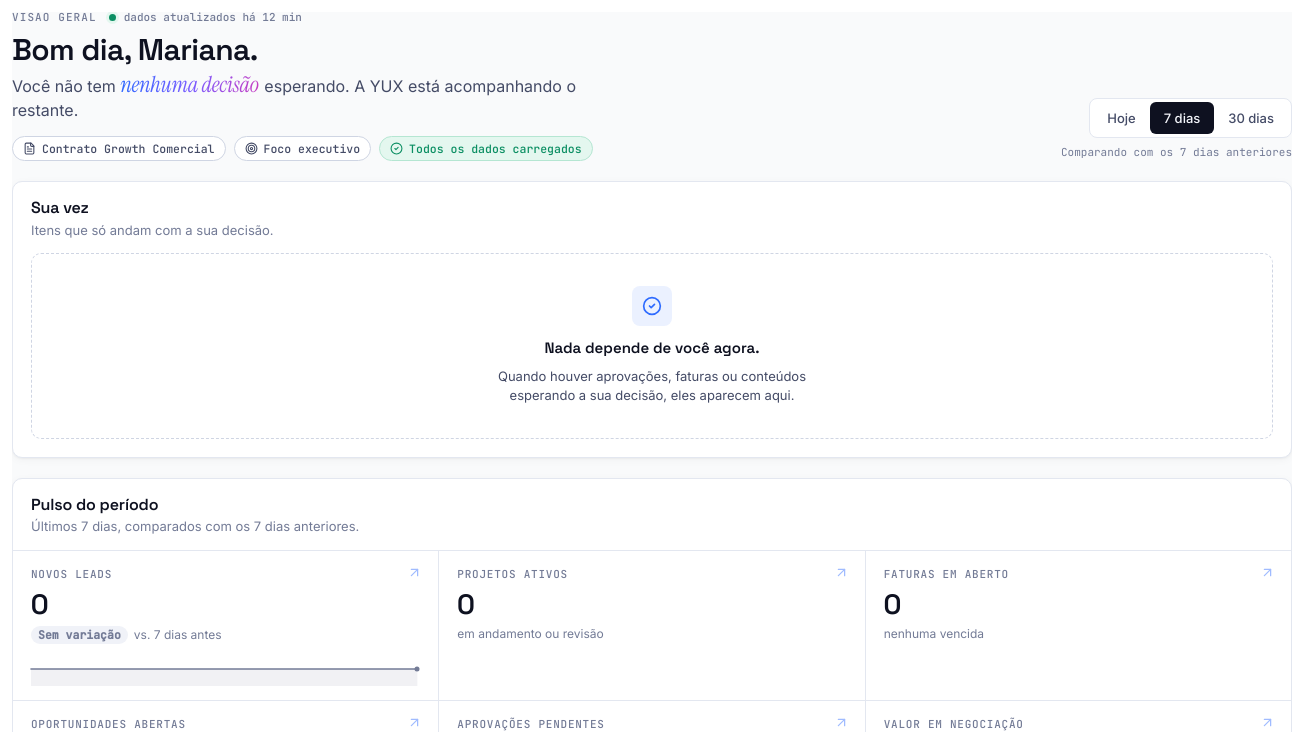
Scenario: PortalDashboardPage › troca o período e atualiza a legenda de comparação
Click the button "Hoje".
click(1122, 118)  # box [1093,102,1150,134]
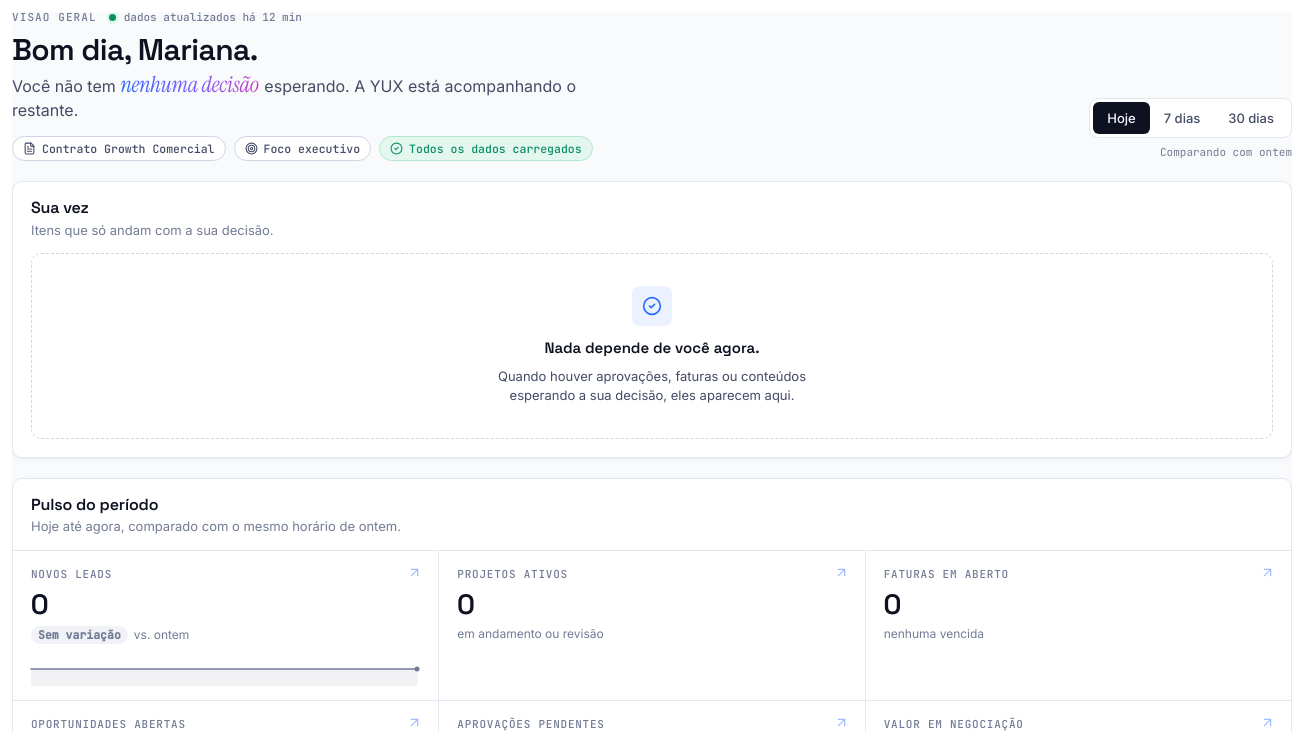
Expected: the text "Comparando com ontem" is shown, [1160,144,1292,161]
Click the button "30 dias".
click(1251, 118)  # box [1214,102,1288,134]
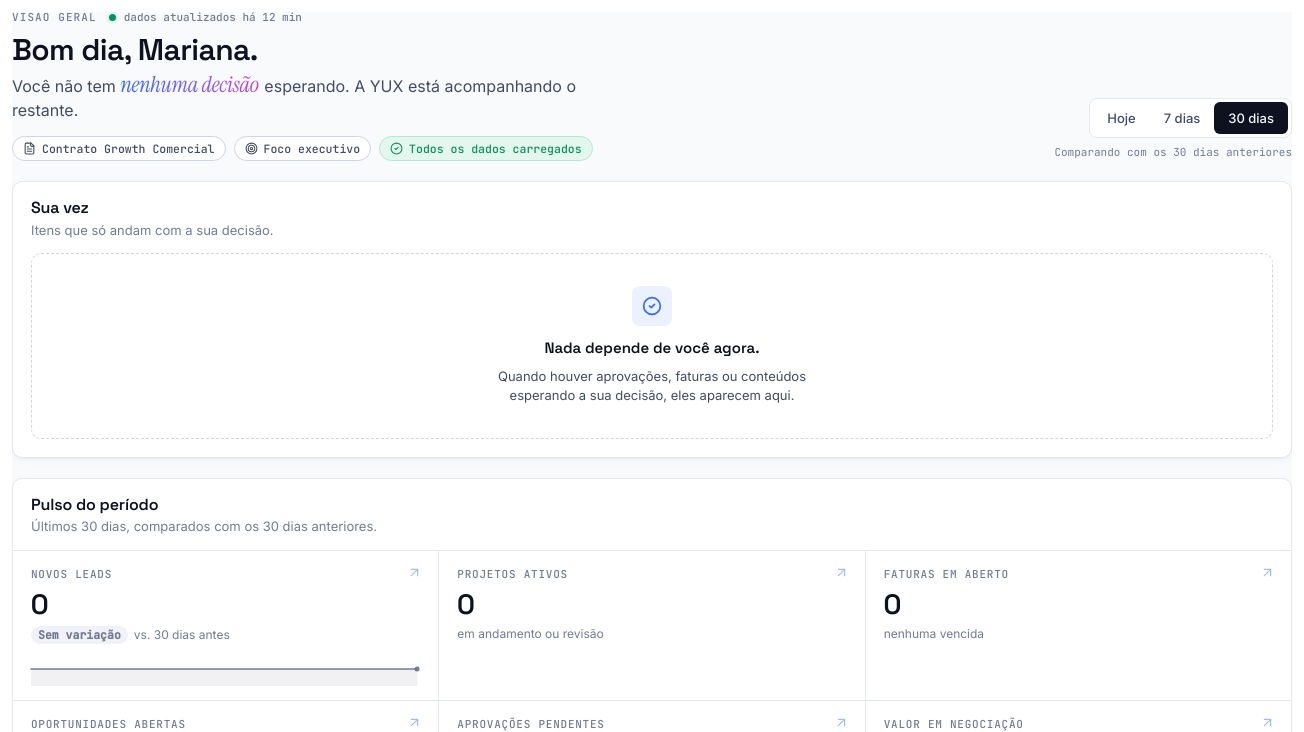
Expected: the text "Comparando com os 30 dias anteriores" is shown, [1054,144,1292,161]
